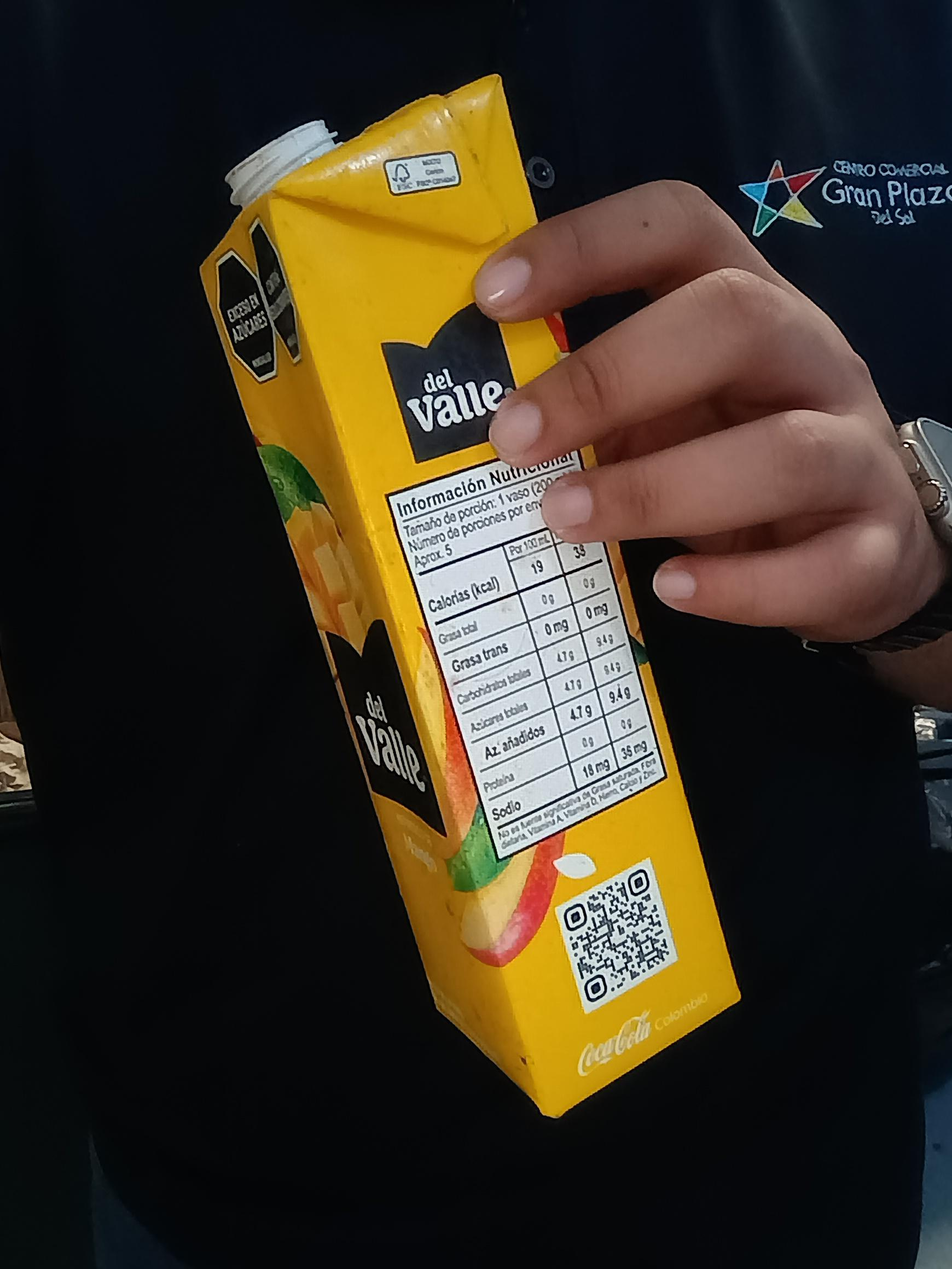Carton: (195, 65, 740, 1120)
